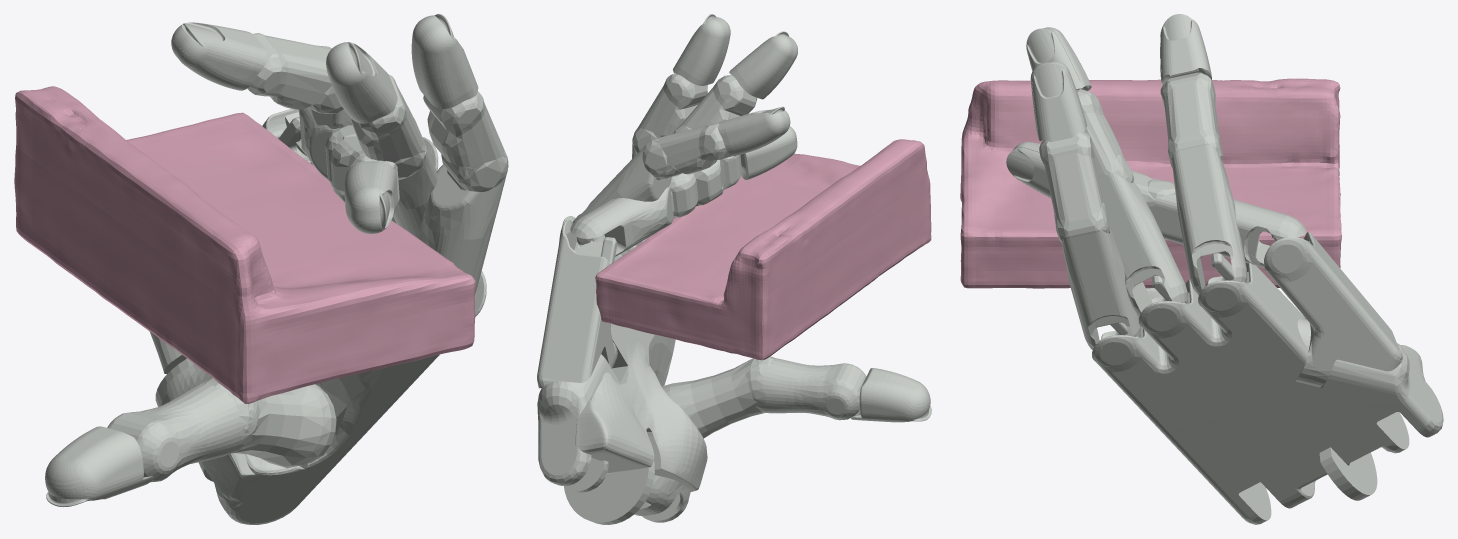
3 renders of one model, left to right at view 1: azimuth 30°, elevation 25°; view 2: azimuth 150°, elevation 25°; view 3: azimuth 270°, elevation 25°, orthographic. The views are drawn at different scales.
Parts seen in each view (by area): view 1: world, hand_isaac_q; view 2: hand_isaac_q, world; view 3: hand_isaac_q, world.
Part boxes in pixels (bbox=[...]): world: bbox=[14, 86, 475, 403]; hand_isaac_q: bbox=[45, 14, 508, 524]; hand_isaac_q: bbox=[537, 14, 931, 524]; world: bbox=[595, 139, 931, 360]; hand_isaac_q: bbox=[1006, 14, 1443, 524]; world: bbox=[960, 78, 1341, 288].
Size of the model in its own units: 0.1434 by 0.1837 by 0.1677.
